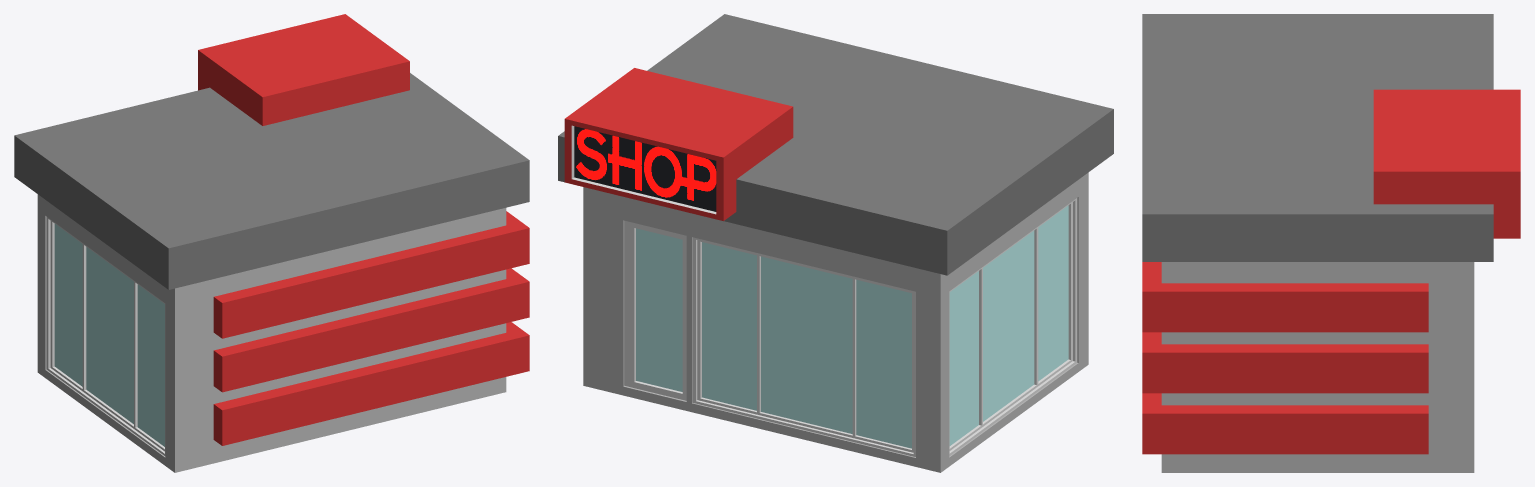
Rendered from shop-steel-glass_night.glb.
3 views of the same model, side by side, from view 1: azimuth 30°, elevation 25°; view 2: azimuth 150°, elevation 25°; view 3: azimuth 270°, elevation 25° (orthographic). The views are drawn at different scales.
Parts seen in each view (by area): view 1: SHOP_0; view 2: SHOP_0, sign_0; view 3: SHOP_0.
Boxes of the visible parts, x1,y1,x2,y2 form: SHOP_0: (14, 14, 529, 472); SHOP_0: (558, 14, 1113, 472); sign_0: (574, 126, 716, 211); SHOP_0: (1142, 14, 1520, 472).
Bounding box in the file's own units: 4.9 × 3.42 × 3.91.
6 materials, 1 textured.
